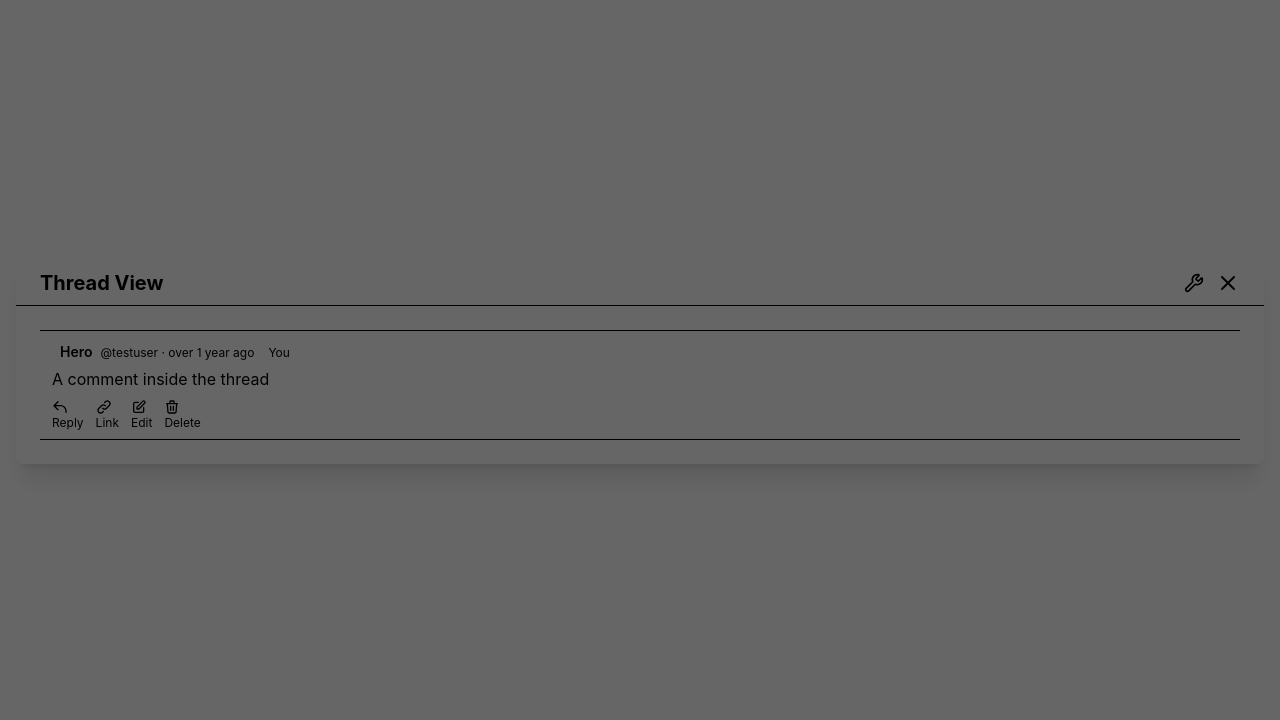
Scenario: ThreadViewModal + utility drawer › opens the drawer over the thread without closing it
The width and height of the screenshot is (1280, 720).
Click the button named "Utilities" at [1194, 282], box [1184, 272, 1204, 292]
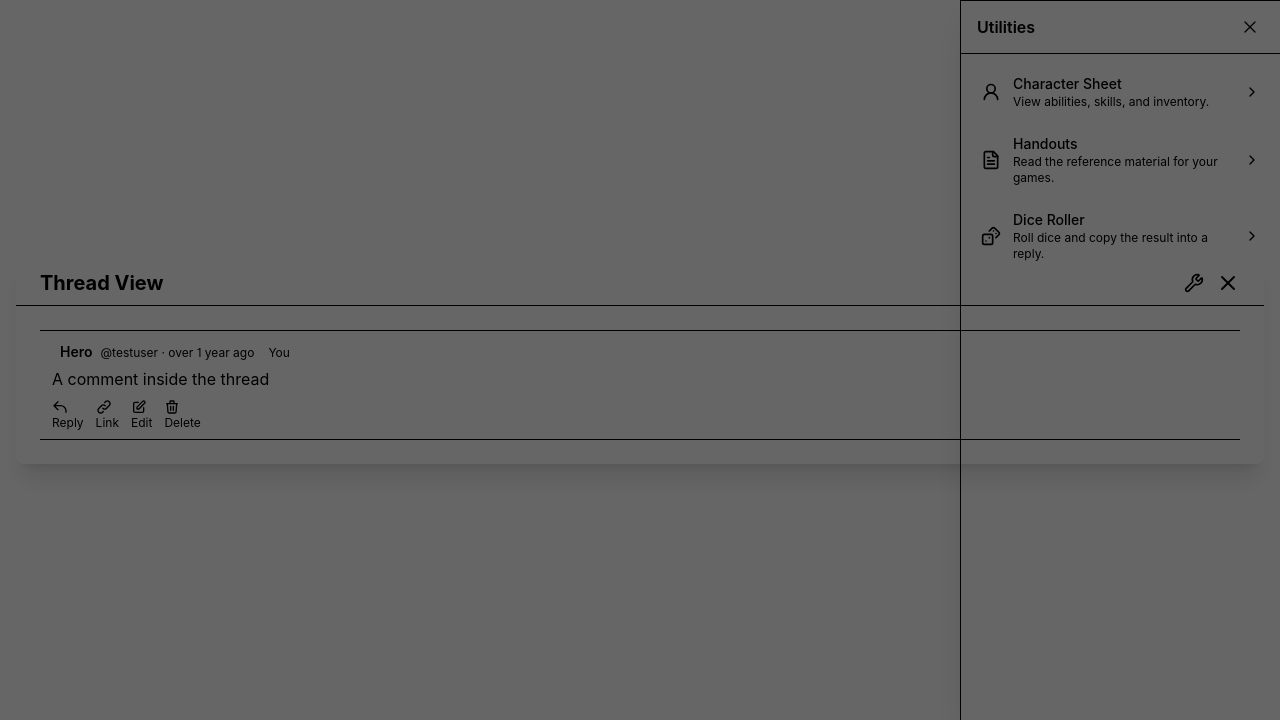
expect the heading "Thread View" is shown: met, box [40, 268, 164, 296]
expect the list with test id "utility-list" is shown: met, box [961, 54, 1279, 282]
